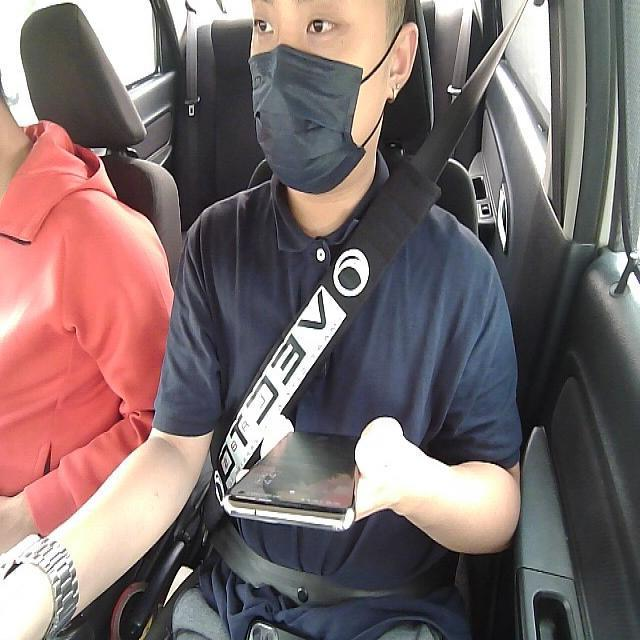phone: (224, 424, 368, 528)
